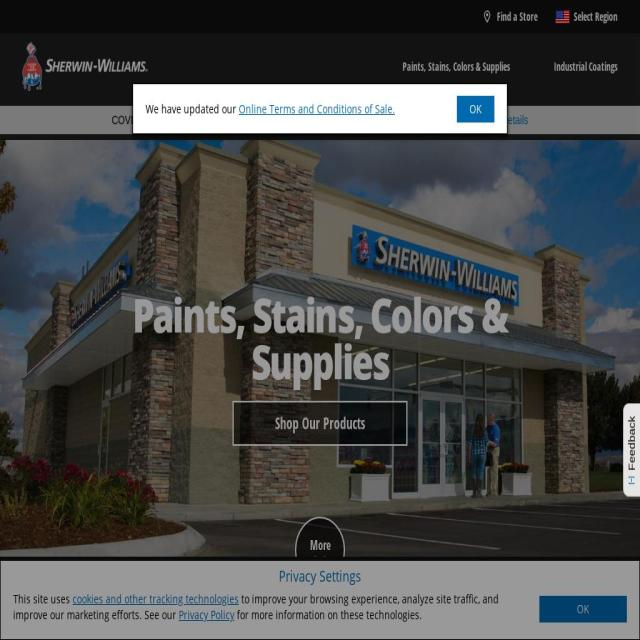button: (232, 401, 408, 446), (23, 42, 148, 91), (295, 517, 345, 583), (539, 596, 627, 622), (554, 0, 617, 33), (481, 0, 538, 33), (623, 402, 640, 432)
heading: (64, 291, 576, 384), (23, 42, 148, 91)
image: (0, 140, 640, 597), (0, 596, 640, 640), (555, 6, 571, 26), (629, 476, 634, 484)
link: (72, 591, 238, 607), (239, 101, 395, 117), (402, 58, 510, 74), (553, 58, 618, 74), (271, 579, 341, 593), (152, 602, 230, 614), (299, 602, 373, 614), (179, 606, 234, 622), (386, 602, 454, 614), (356, 579, 408, 593), (480, 113, 528, 127), (423, 579, 468, 593), (92, 602, 139, 614), (242, 602, 287, 614), (172, 579, 208, 593), (42, 602, 80, 614), (224, 579, 256, 593)
text: (13, 591, 499, 622), (1, 561, 640, 584), (111, 113, 481, 127), (234, 606, 422, 622), (539, 596, 627, 622), (467, 601, 598, 615), (146, 101, 238, 117), (457, 108, 494, 134), (13, 591, 73, 607), (573, 10, 618, 23), (497, 10, 538, 23), (310, 538, 330, 552), (626, 415, 640, 430)
